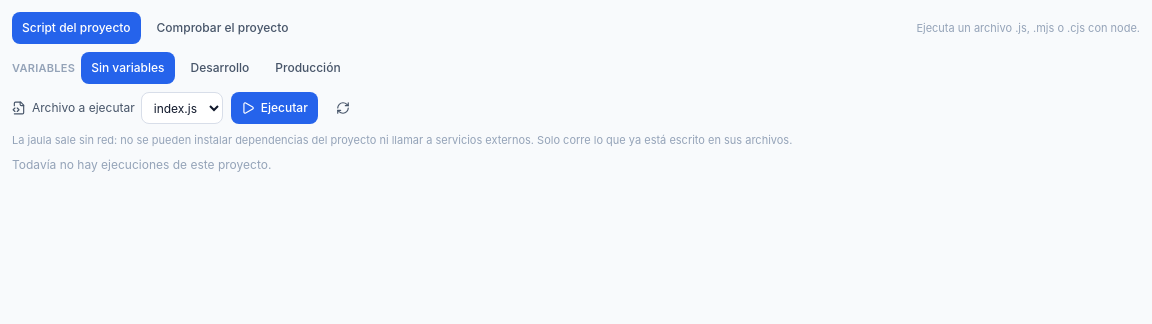
Test: RunsPanel › lanza el archivo abierto y vuelve a pedir la lista
Check: the text "Todavía no hay ejecuciones de este proyecto." is shown, box [12,156,271,172]
What coordinates should you click on to do the following:
click the button "Ejecutar"
I would click on:
 (274, 108)
Its box is [231,92,318,124].
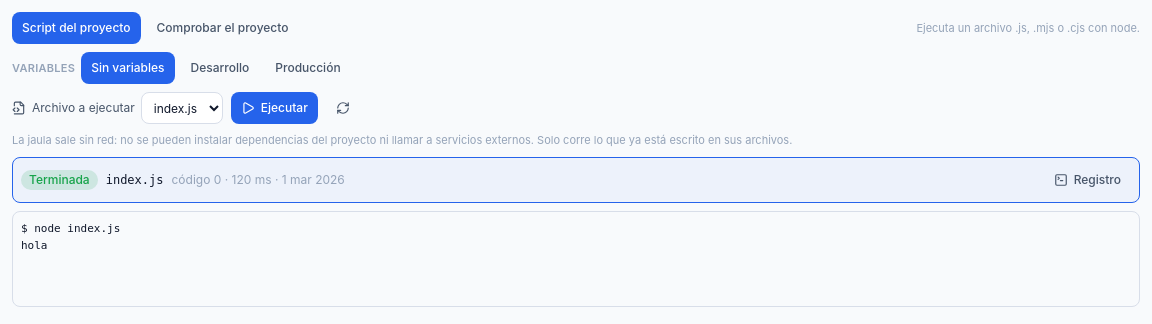
Check: the text "index.js" is shown, box [106,172,164,188]
Check: the text named "Registro de la ejecución" shows "hola", box [21,222,120,252]
